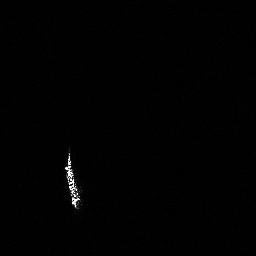ship: (60, 147, 86, 213)
